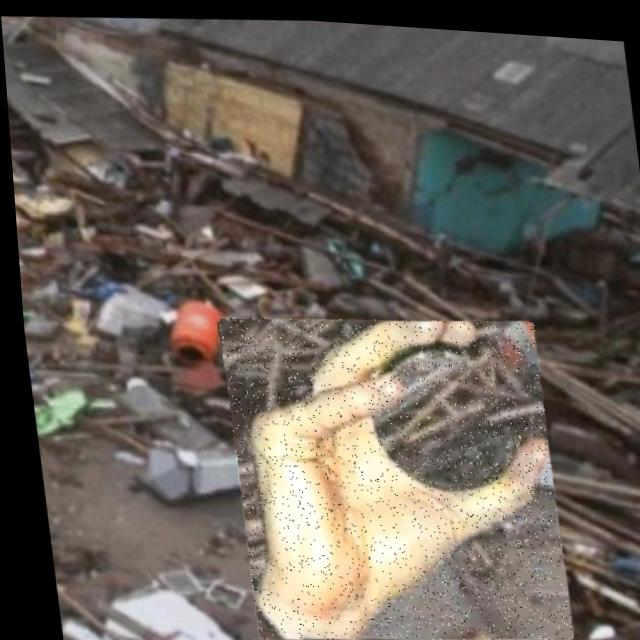Person in Rubble: (213, 298, 565, 640)
